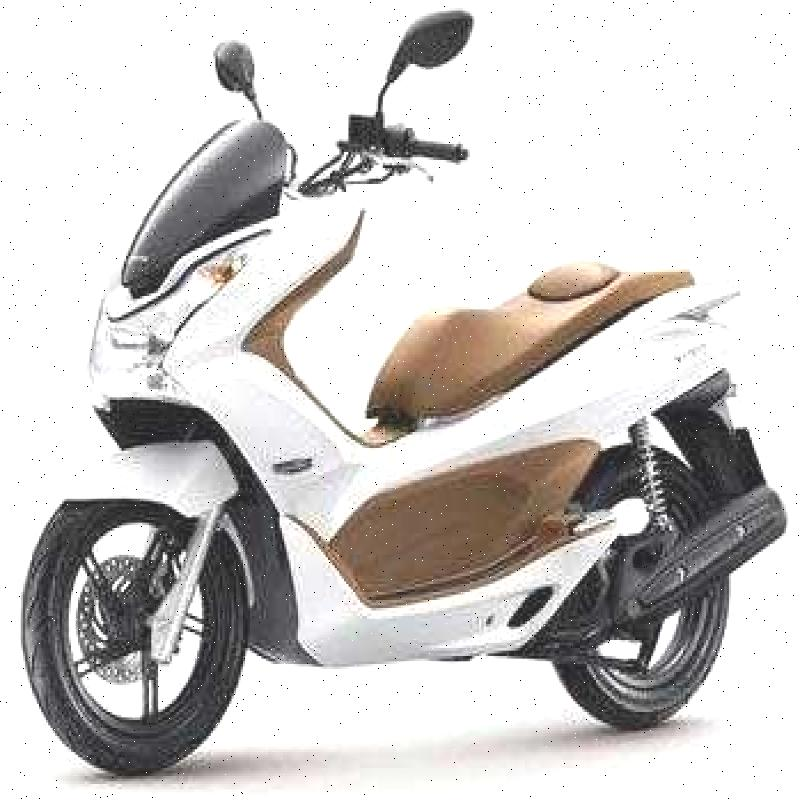bike: (29, 7, 766, 761)
